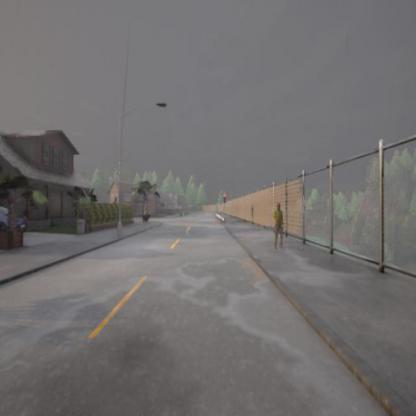person: (271, 204, 284, 250)
